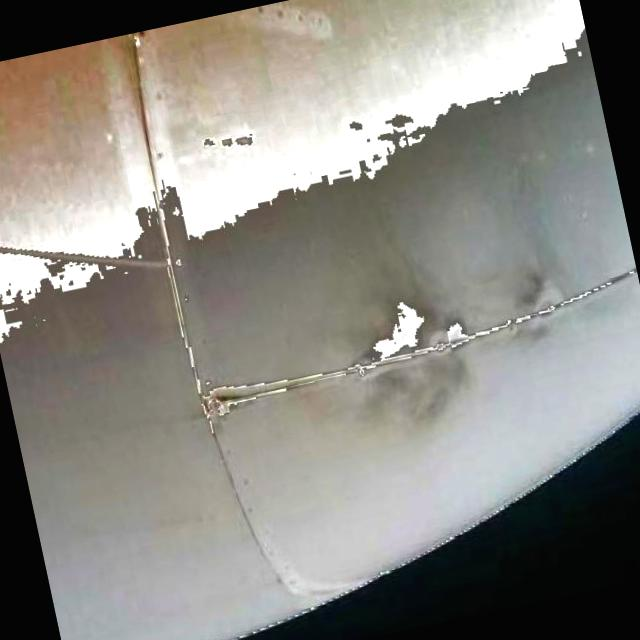crack: (203, 361, 359, 412)
